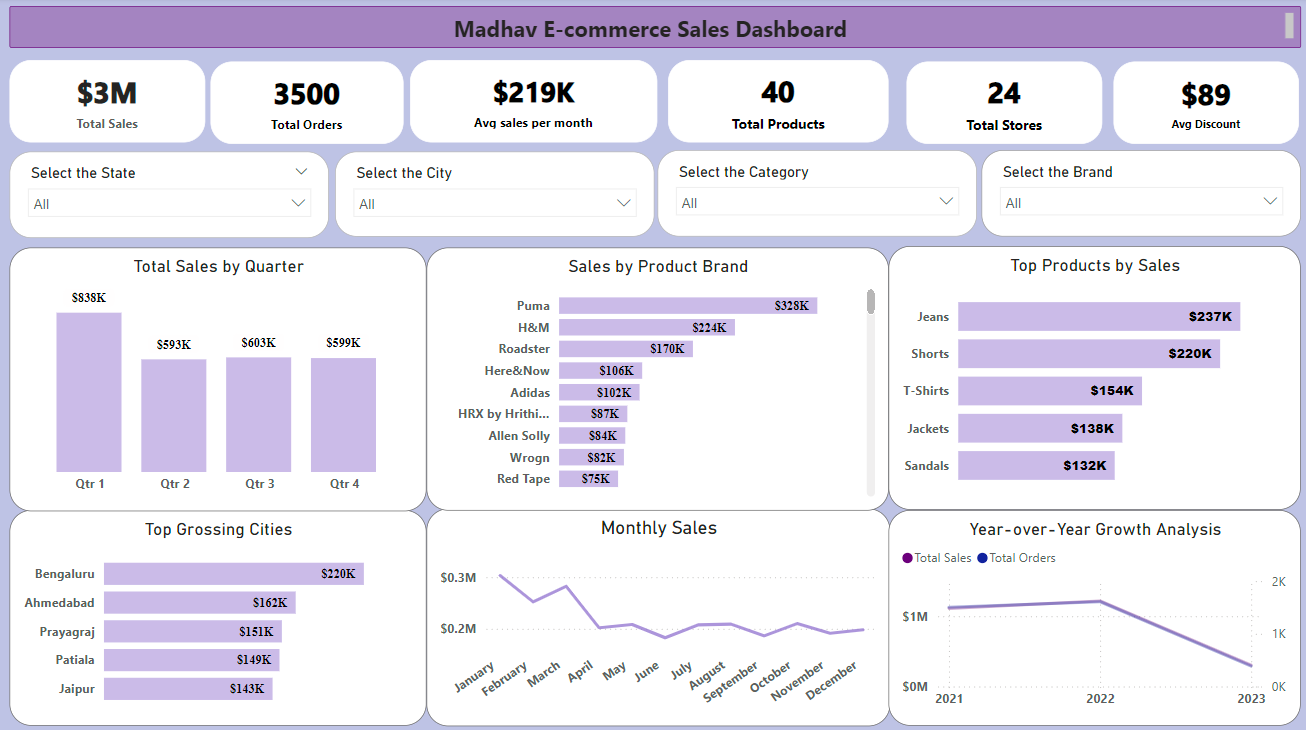

The page's visual inventory and layout, read from the dashboard file:
{"tool":"powerbi","page":{"name":"Page 1","canvas":[1280,720],"ordinal":0},"visuals":[{"type":"card","title":"Total Sales","fields":{"Values":["Orders.Total Sales"]},"box":[12.9,61.4,190,80],"z":0},{"type":"card","fields":{"Values":["Orders.Total Orders"]},"box":[208.6,62.9,187.1,80],"z":1000},{"type":"card","fields":{"Values":["Orders.Avg sales per month"]},"box":[401.4,61.4,240,80],"z":2000},{"type":"card","fields":{"Values":["Count(Products.Product Name)"]},"box":[651.4,61.4,214.3,80],"z":3000},{"type":"card","fields":{"Values":["Count(Customers.City)"]},"box":[877.7,62.6,189.2,80.1],"z":4000},{"type":"clusteredBarChart","title":"Top Grossing Cities","fields":{"Y":["Orders.Total Sales"],"Category":["Customers.City"]},"box":[13.1,497.8,404.6,209.6],"z":5000},{"type":"clusteredBarChart","title":"Top Products by Sales","fields":{"Category":["Products.Product Name"],"Y":["Orders.Total Sales"]},"box":[865.7,241.4,400,255.7],"z":6000},{"type":"lineChart","title":"Monthly Sales","fields":{"Category":["Orders.Month Name"],"Y":["Orders.Total Sales"]},"box":[417.7,496.3,449.8,211.1],"z":7000},{"type":"slicer","fields":{"Values":["Products.Category"]},"box":[641.4,148.6,310,84.3],"z":8000},{"type":"clusteredBarChart","title":"Sales by Product Brand","fields":{"Category":["Products.Brand Name"],"Y":["Orders.Total Sales"]},"box":[417.1,242.9,448.6,255],"z":9000},{"type":"lineChart","title":"Year-over-Year Growth Analysis","fields":{"Category":["Orders.Date.Variation.Date Hierarchy.Year"],"Y":["Orders.Total Sales"],"Y2":["Orders.Total Orders"]},"box":[866.1,497.8,400.3,209.6],"z":10000},{"type":"slicer","fields":{"Values":["Customers.City"]},"box":[328.6,150,310,82.9],"z":11000},{"type":"card","fields":{"Values":["Avg(Orders.Discount)"]},"box":[1084.3,62.9,180,80],"z":12000},{"type":"slicer","fields":{"Values":["Customers.State"]},"box":[12.9,150,310,84.3],"z":13000},{"type":"lineStackedColumnComboChart","fields":{"Category":["Orders.Date.Variation.Date Hierarchy.Quarter"],"Y":["Orders.Total Sales"]},"box":[13.1,243.1,404.6,256.2],"z":14000},{"type":"textbox","box":[13,8.1,1253.3,40.5],"z":15000},{"type":"slicer","fields":{"Values":["Products.Brand Name"]},"box":[965.1,149,299.6,84.2],"z":16000}]}

Visuals, with their boxes in screenshot pixels (x1, y1, x2, y2), scaled from the page's 1280x720 canvas onto the 1306x730 screenshot:
"Total Sales" card: (13, 62, 207, 143)
card - Orders.Total Orders: (213, 64, 404, 145)
card - Orders.Avg sales per month: (410, 62, 654, 143)
card - Count(Products.Product Name): (665, 62, 883, 143)
card - Count(Customers.City): (896, 63, 1089, 145)
"Top Grossing Cities" clusteredBarChart: (13, 505, 426, 717)
"Top Products by Sales" clusteredBarChart: (883, 245, 1291, 504)
"Monthly Sales" lineChart: (426, 503, 885, 717)
slicer - Products.Category: (654, 151, 971, 236)
"Sales by Product Brand" clusteredBarChart: (426, 246, 883, 505)
"Year-over-Year Growth Analysis" lineChart: (884, 505, 1292, 717)
slicer - Customers.City: (335, 152, 652, 236)
card - Avg(Orders.Discount): (1106, 64, 1290, 145)
slicer - Customers.State: (13, 152, 329, 238)
lineStackedColumnComboChart - Orders.Date.Variation.Date Hierarchy.Quarter x Orders.Total Sales: (13, 246, 426, 506)
textbox: (13, 8, 1292, 49)
slicer - Products.Brand Name: (985, 151, 1290, 236)
